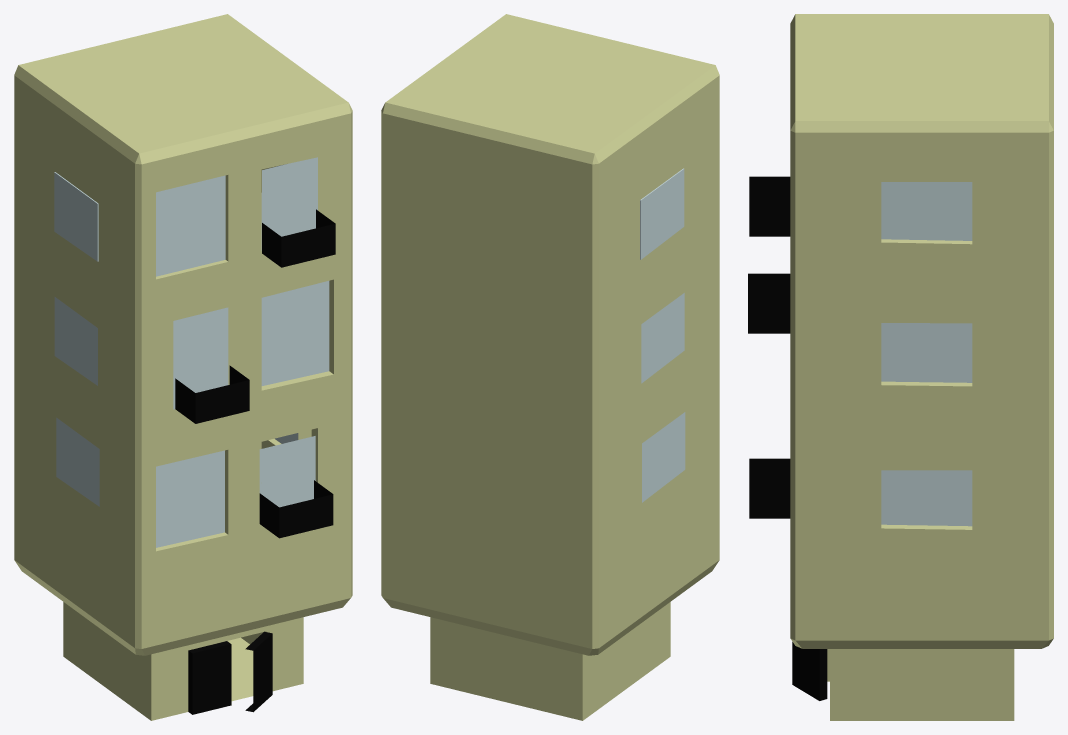
Rendered from flatbeige!.fbx.
3 renders of one model, left to right at view 1: azimuth 30°, elevation 25°; view 2: azimuth 150°, elevation 25°; view 3: azimuth 270°, elevation 25°, orthographic. The views are drawn at different scales.
Parts seen in each view (by area): view 1: Cube, Cube.005, Cube.004, Cube.006, Cube.014, Cube.013, Cube.012, Cube.007, Cube.015, Cube.017, Cube.016, Cube.002 (+3 smaller); view 2: Cube, Cube.015, Cube.016, Cube.017; view 3: Cube, Cube.010, Cube.009, Cube.011, Cube.002, Cube.003, Cube.001, Cube.008.
Boxes of the visible parts, left/top/right/bottom form: Cube: left=14, top=14, right=352, bottom=720; Cube.005: left=261, top=281, right=329, bottom=385; Cube.004: left=156, top=175, right=225, bottom=276; Cube.006: left=156, top=450, right=224, bottom=547; Cube.014: left=173, top=307, right=228, bottom=409; Cube.013: left=261, top=157, right=317, bottom=250; Cube.012: left=259, top=436, right=315, bottom=507; Cube.007: left=188, top=641, right=231, bottom=714; Cube.015: left=54, top=172, right=98, bottom=261; Cube.017: left=56, top=417, right=99, bottom=506; Cube.016: left=54, top=297, right=97, bottom=385; Cube.002: left=175, top=365, right=249, bottom=423; Cube: left=381, top=14, right=719, bottom=720; Cube.015: left=640, top=168, right=684, bottom=259; Cube.016: left=641, top=293, right=684, bottom=383; Cube.017: left=642, top=412, right=685, bottom=502; Cube: left=790, top=14, right=1053, bottom=720; Cube.010: left=881, top=323, right=972, bottom=382; Cube.009: left=881, top=182, right=972, bottom=240; Cube.011: left=881, top=470, right=972, bottom=526; Cube.002: left=748, top=273, right=790, bottom=333; Cube.003: left=749, top=458, right=790, bottom=518; Cube.001: left=749, top=176, right=790, bottom=236; Cube.008: left=792, top=642, right=827, bottom=700.
Size of the model in its own units: 535 by 1368 by 617.
